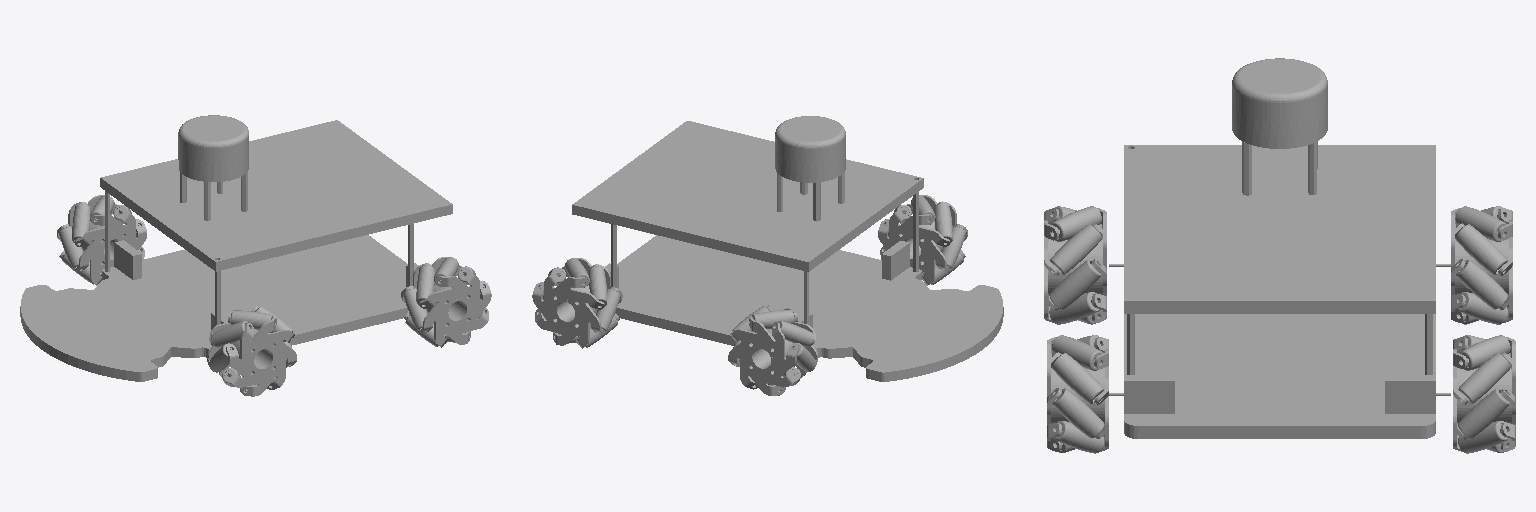
--- Render facts (derived) ---
Views: 3 orthographic renders of the robot side by side, from view 1: azimuth 30°, elevation 25°; view 2: azimuth 150°, elevation 25°; view 3: azimuth 270°, elevation 25°.
Model car_copy_2 with 38 links and 37 joints (36 continuous, 1 fixed), rooted at base_link, posed all joints at 0.
Links seen in each view (by area): view 1: base_link, macWheel_big_v2_Mirror__2, macWheel_big_v2_1, lidar_v1_1, macWheel_big_v2__1__1, wheel_small_com_big_v1__30__1, wheel_small_com_big_v1__2__1, wheel_small_com_big_v1__20__1; view 2: base_link, macWheel_big_v2__1__1, macWheel_big_v2_Mirror__1, lidar_v1_1, macWheel_big_v2_Mirror__2, wheel_small_com_big_v1__20__1, wheel_small_com_big_v1__30__1, wheel_small_com_big_v1__10__1; view 3: base_link, lidar_v1_1, macWheel_big_v2_Mirror__1, macWheel_big_v2_Mirror__2, macWheel_big_v2__1__1, macWheel_big_v2_1, wheel_small_com_big_v1_1, wheel_small_com_big_v1__16__1, wheel_small_com_big_v1__29__1, wheel_small_com_big_v1__8__1, wheel_small_com_big_v1__12__1, wheel_small_com_big_v1__18__1 (+10 smaller).
Boxes of the visible links, left/top/right/bottom form: base_link: left=20, top=120, right=452, bottom=381; macWheel_big_v2_Mirror__2: left=207, top=306, right=296, bottom=396; macWheel_big_v2_1: left=401, top=257, right=491, bottom=347; lidar_v1_1: left=178, top=115, right=248, bottom=162; macWheel_big_v2__1__1: left=57, top=195, right=146, bottom=285; wheel_small_com_big_v1__30__1: left=211, top=321, right=247, bottom=347; wheel_small_com_big_v1__2__1: left=416, top=265, right=434, bottom=304; wheel_small_com_big_v1__20__1: left=72, top=204, right=90, bottom=242; base_link: left=572, top=121, right=1003, bottom=381; macWheel_big_v2__1__1: left=728, top=305, right=817, bottom=395; macWheel_big_v2_Mirror__1: left=532, top=258, right=622, bottom=348; lidar_v1_1: left=775, top=116, right=845, bottom=162; macWheel_big_v2_Mirror__2: left=878, top=195, right=967, bottom=285; wheel_small_com_big_v1__20__1: left=778, top=321, right=813, bottom=346; wheel_small_com_big_v1__30__1: left=934, top=204, right=952, bottom=242; wheel_small_com_big_v1__10__1: left=589, top=266, right=606, bottom=305; base_link: left=1109, top=105, right=1450, bottom=438; lidar_v1_1: left=1232, top=58, right=1327, bottom=122; macWheel_big_v2_Mirror__1: left=1453, top=337, right=1515, bottom=451; macWheel_big_v2_Mirror__2: left=1044, top=208, right=1106, bottom=322; macWheel_big_v2__1__1: left=1451, top=208, right=1512, bottom=322; macWheel_big_v2_1: left=1047, top=337, right=1108, bottom=451; wheel_small_com_big_v1_1: left=1052, top=353, right=1103, bottom=403; wheel_small_com_big_v1__16__1: left=1455, top=224, right=1507, bottom=274; wheel_small_com_big_v1__29__1: left=1050, top=224, right=1101, bottom=274; wheel_small_com_big_v1__8__1: left=1458, top=353, right=1510, bottom=403; wheel_small_com_big_v1__12__1: left=1458, top=388, right=1509, bottom=438; wheel_small_com_big_v1__18__1: left=1456, top=260, right=1507, bottom=309.
Bounding box of the posed robot: 0.3941 × 0.3245 × 0.2021 m (x, y, z).
38 mesh visuals loaded from 38 distinct referenced files (38 binary STL).

The robot description file, URDF, robot "car_copy_2":
<?xml version="1.0" ?>
<!-- =================================================================================== -->
<!-- |    This document was autogenerated by xacro from urdf/car_copy_2.xacro          | -->
<!-- |    EDITING THIS FILE BY HAND IS NOT RECOMMENDED                                 | -->
<!-- =================================================================================== -->
<robot xmlns:xacro="http://www.ros.org/wiki/xacro" name="car_copy_2">
  <material name="silver">
    <color rgba="0.700 0.700 0.700 1.000"/>
  </material>
  <transmission name="Revolute 58_tran">
    <type>transmission_interface/SimpleTransmission</type>
    <joint name="Revolute 58">
      <hardwareInterface>hardware_interface/EffortJointInterface</hardwareInterface>
    </joint>
    <actuator name="Revolute 58_actr">
      <hardwareInterface>hardware_interface/EffortJointInterface</hardwareInterface>
      <mechanicalReduction>1</mechanicalReduction>
    </actuator>
  </transmission>
  <transmission name="Revolute 59_tran">
    <type>transmission_interface/SimpleTransmission</type>
    <joint name="Revolute 59">
      <hardwareInterface>hardware_interface/EffortJointInterface</hardwareInterface>
    </joint>
    <actuator name="Revolute 59_actr">
      <hardwareInterface>hardware_interface/EffortJointInterface</hardwareInterface>
      <mechanicalReduction>1</mechanicalReduction>
    </actuator>
  </transmission>
  <transmission name="Revolute 60_tran">
    <type>transmission_interface/SimpleTransmission</type>
    <joint name="Revolute 60">
      <hardwareInterface>hardware_interface/EffortJointInterface</hardwareInterface>
    </joint>
    <actuator name="Revolute 60_actr">
      <hardwareInterface>hardware_interface/EffortJointInterface</hardwareInterface>
      <mechanicalReduction>1</mechanicalReduction>
    </actuator>
  </transmission>
  <transmission name="Revolute 61_tran">
    <type>transmission_interface/SimpleTransmission</type>
    <joint name="Revolute 61">
      <hardwareInterface>hardware_interface/EffortJointInterface</hardwareInterface>
    </joint>
    <actuator name="Revolute 61_actr">
      <hardwareInterface>hardware_interface/EffortJointInterface</hardwareInterface>
      <mechanicalReduction>1</mechanicalReduction>
    </actuator>
  </transmission>
  <transmission name="Revolute 62_tran">
    <type>transmission_interface/SimpleTransmission</type>
    <joint name="Revolute 62">
      <hardwareInterface>hardware_interface/EffortJointInterface</hardwareInterface>
    </joint>
    <actuator name="Revolute 62_actr">
      <hardwareInterface>hardware_interface/EffortJointInterface</hardwareInterface>
      <mechanicalReduction>1</mechanicalReduction>
    </actuator>
  </transmission>
  <transmission name="Revolute 63_tran">
    <type>transmission_interface/SimpleTransmission</type>
    <joint name="Revolute 63">
      <hardwareInterface>hardware_interface/EffortJointInterface</hardwareInterface>
    </joint>
    <actuator name="Revolute 63_actr">
      <hardwareInterface>hardware_interface/EffortJointInterface</hardwareInterface>
      <mechanicalReduction>1</mechanicalReduction>
    </actuator>
  </transmission>
  <transmission name="Revolute 64_tran">
    <type>transmission_interface/SimpleTransmission</type>
    <joint name="Revolute 64">
      <hardwareInterface>hardware_interface/EffortJointInterface</hardwareInterface>
    </joint>
    <actuator name="Revolute 64_actr">
      <hardwareInterface>hardware_interface/EffortJointInterface</hardwareInterface>
      <mechanicalReduction>1</mechanicalReduction>
    </actuator>
  </transmission>
  <transmission name="Revolute 65_tran">
    <type>transmission_interface/SimpleTransmission</type>
    <joint name="Revolute 65">
      <hardwareInterface>hardware_interface/EffortJointInterface</hardwareInterface>
    </joint>
    <actuator name="Revolute 65_actr">
      <hardwareInterface>hardware_interface/EffortJointInterface</hardwareInterface>
      <mechanicalReduction>1</mechanicalReduction>
    </actuator>
  </transmission>
  <transmission name="Revolute 66_tran">
    <type>transmission_interface/SimpleTransmission</type>
    <joint name="Revolute 66">
      <hardwareInterface>hardware_interface/EffortJointInterface</hardwareInterface>
    </joint>
    <actuator name="Revolute 66_actr">
      <hardwareInterface>hardware_interface/EffortJointInterface</hardwareInterface>
      <mechanicalReduction>1</mechanicalReduction>
    </actuator>
  </transmission>
  <transmission name="Revolute 67_tran">
    <type>transmission_interface/SimpleTransmission</type>
    <joint name="Revolute 67">
      <hardwareInterface>hardware_interface/EffortJointInterface</hardwareInterface>
    </joint>
    <actuator name="Revolute 67_actr">
      <hardwareInterface>hardware_interface/EffortJointInterface</hardwareInterface>
      <mechanicalReduction>1</mechanicalReduction>
    </actuator>
  </transmission>
  <transmission name="Revolute 68_tran">
    <type>transmission_interface/SimpleTransmission</type>
    <joint name="Revolute 68">
      <hardwareInterface>hardware_interface/EffortJointInterface</hardwareInterface>
    </joint>
    <actuator name="Revolute 68_actr">
      <hardwareInterface>hardware_interface/EffortJointInterface</hardwareInterface>
      <mechanicalReduction>1</mechanicalReduction>
    </actuator>
  </transmission>
  <transmission name="Revolute 69_tran">
    <type>transmission_interface/SimpleTransmission</type>
    <joint name="Revolute 69">
      <hardwareInterface>hardware_interface/EffortJointInterface</hardwareInterface>
    </joint>
    <actuator name="Revolute 69_actr">
      <hardwareInterface>hardware_interface/EffortJointInterface</hardwareInterface>
      <mechanicalReduction>1</mechanicalReduction>
    </actuator>
  </transmission>
  <transmission name="Revolute 70_tran">
    <type>transmission_interface/SimpleTransmission</type>
    <joint name="Revolute 70">
      <hardwareInterface>hardware_interface/EffortJointInterface</hardwareInterface>
    </joint>
    <actuator name="Revolute 70_actr">
      <hardwareInterface>hardware_interface/EffortJointInterface</hardwareInterface>
      <mechanicalReduction>1</mechanicalReduction>
    </actuator>
  </transmission>
  <transmission name="Revolute 71_tran">
    <type>transmission_interface/SimpleTransmission</type>
    <joint name="Revolute 71">
      <hardwareInterface>hardware_interface/EffortJointInterface</hardwareInterface>
    </joint>
    <actuator name="Revolute 71_actr">
      <hardwareInterface>hardware_interface/EffortJointInterface</hardwareInterface>
      <mechanicalReduction>1</mechanicalReduction>
    </actuator>
  </transmission>
  <transmission name="Revolute 72_tran">
    <type>transmission_interface/SimpleTransmission</type>
    <joint name="Revolute 72">
      <hardwareInterface>hardware_interface/EffortJointInterface</hardwareInterface>
    </joint>
    <actuator name="Revolute 72_actr">
      <hardwareInterface>hardware_interface/EffortJointInterface</hardwareInterface>
      <mechanicalReduction>1</mechanicalReduction>
    </actuator>
  </transmission>
  <transmission name="Revolute 73_tran">
    <type>transmission_interface/SimpleTransmission</type>
    <joint name="Revolute 73">
      <hardwareInterface>hardware_interface/EffortJointInterface</hardwareInterface>
    </joint>
    <actuator name="Revolute 73_actr">
      <hardwareInterface>hardware_interface/EffortJointInterface</hardwareInterface>
      <mechanicalReduction>1</mechanicalReduction>
    </actuator>
  </transmission>
  <transmission name="Revolute 74_tran">
    <type>transmission_interface/SimpleTransmission</type>
    <joint name="Revolute 74">
      <hardwareInterface>hardware_interface/EffortJointInterface</hardwareInterface>
    </joint>
    <actuator name="Revolute 74_actr">
      <hardwareInterface>hardware_interface/EffortJointInterface</hardwareInterface>
      <mechanicalReduction>1</mechanicalReduction>
    </actuator>
  </transmission>
  <transmission name="Revolute 75_tran">
    <type>transmission_interface/SimpleTransmission</type>
    <joint name="Revolute 75">
      <hardwareInterface>hardware_interface/EffortJointInterface</hardwareInterface>
    </joint>
    <actuator name="Revolute 75_actr">
      <hardwareInterface>hardware_interface/EffortJointInterface</hardwareInterface>
      <mechanicalReduction>1</mechanicalReduction>
    </actuator>
  </transmission>
  <transmission name="Revolute 76_tran">
    <type>transmission_interface/SimpleTransmission</type>
    <joint name="Revolute 76">
      <hardwareInterface>hardware_interface/EffortJointInterface</hardwareInterface>
    </joint>
    <actuator name="Revolute 76_actr">
      <hardwareInterface>hardware_interface/EffortJointInterface</hardwareInterface>
      <mechanicalReduction>1</mechanicalReduction>
    </actuator>
  </transmission>
  <transmission name="Revolute 77_tran">
    <type>transmission_interface/SimpleTransmission</type>
    <joint name="Revolute 77">
      <hardwareInterface>hardware_interface/EffortJointInterface</hardwareInterface>
    </joint>
    <actuator name="Revolute 77_actr">
      <hardwareInterface>hardware_interface/EffortJointInterface</hardwareInterface>
      <mechanicalReduction>1</mechanicalReduction>
    </actuator>
  </transmission>
  <transmission name="Revolute 78_tran">
    <type>transmission_interface/SimpleTransmission</type>
    <joint name="Revolute 78">
      <hardwareInterface>hardware_interface/EffortJointInterface</hardwareInterface>
    </joint>
    <actuator name="Revolute 78_actr">
      <hardwareInterface>hardware_interface/EffortJointInterface</hardwareInterface>
      <mechanicalReduction>1</mechanicalReduction>
    </actuator>
  </transmission>
  <transmission name="Revolute 79_tran">
    <type>transmission_interface/SimpleTransmission</type>
    <joint name="Revolute 79">
      <hardwareInterface>hardware_interface/EffortJointInterface</hardwareInterface>
    </joint>
    <actuator name="Revolute 79_actr">
      <hardwareInterface>hardware_interface/EffortJointInterface</hardwareInterface>
      <mechanicalReduction>1</mechanicalReduction>
    </actuator>
  </transmission>
  <transmission name="Revolute 80_tran">
    <type>transmission_interface/SimpleTransmission</type>
    <joint name="Revolute 80">
      <hardwareInterface>hardware_interface/EffortJointInterface</hardwareInterface>
    </joint>
    <actuator name="Revolute 80_actr">
      <hardwareInterface>hardware_interface/EffortJointInterface</hardwareInterface>
      <mechanicalReduction>1</mechanicalReduction>
    </actuator>
  </transmission>
  <transmission name="Revolute 81_tran">
    <type>transmission_interface/SimpleTransmission</type>
    <joint name="Revolute 81">
      <hardwareInterface>hardware_interface/EffortJointInterface</hardwareInterface>
    </joint>
    <actuator name="Revolute 81_actr">
      <hardwareInterface>hardware_interface/EffortJointInterface</hardwareInterface>
      <mechanicalReduction>1</mechanicalReduction>
    </actuator>
  </transmission>
  <transmission name="Revolute 82_tran">
    <type>transmission_interface/SimpleTransmission</type>
    <joint name="Revolute 82">
      <hardwareInterface>hardware_interface/EffortJointInterface</hardwareInterface>
    </joint>
    <actuator name="Revolute 82_actr">
      <hardwareInterface>hardware_interface/EffortJointInterface</hardwareInterface>
      <mechanicalReduction>1</mechanicalReduction>
    </actuator>
  </transmission>
  <transmission name="Revolute 83_tran">
    <type>transmission_interface/SimpleTransmission</type>
    <joint name="Revolute 83">
      <hardwareInterface>hardware_interface/EffortJointInterface</hardwareInterface>
    </joint>
    <actuator name="Revolute 83_actr">
      <hardwareInterface>hardware_interface/EffortJointInterface</hardwareInterface>
      <mechanicalReduction>1</mechanicalReduction>
    </actuator>
  </transmission>
  <transmission name="Revolute 84_tran">
    <type>transmission_interface/SimpleTransmission</type>
    <joint name="Revolute 84">
      <hardwareInterface>hardware_interface/EffortJointInterface</hardwareInterface>
    </joint>
    <actuator name="Revolute 84_actr">
      <hardwareInterface>hardware_interface/EffortJointInterface</hardwareInterface>
      <mechanicalReduction>1</mechanicalReduction>
    </actuator>
  </transmission>
  <transmission name="Revolute 85_tran">
    <type>transmission_interface/SimpleTransmission</type>
    <joint name="Revolute 85">
      <hardwareInterface>hardware_interface/EffortJointInterface</hardwareInterface>
    </joint>
    <actuator name="Revolute 85_actr">
      <hardwareInterface>hardware_interface/EffortJointInterface</hardwareInterface>
      <mechanicalReduction>1</mechanicalReduction>
    </actuator>
  </transmission>
  <transmission name="Revolute 86_tran">
    <type>transmission_interface/SimpleTransmission</type>
    <joint name="Revolute 86">
      <hardwareInterface>hardware_interface/EffortJointInterface</hardwareInterface>
    </joint>
    <actuator name="Revolute 86_actr">
      <hardwareInterface>hardware_interface/EffortJointInterface</hardwareInterface>
      <mechanicalReduction>1</mechanicalReduction>
    </actuator>
  </transmission>
  <transmission name="Revolute 87_tran">
    <type>transmission_interface/SimpleTransmission</type>
    <joint name="Revolute 87">
      <hardwareInterface>hardware_interface/EffortJointInterface</hardwareInterface>
    </joint>
    <actuator name="Revolute 87_actr">
      <hardwareInterface>hardware_interface/EffortJointInterface</hardwareInterface>
      <mechanicalReduction>1</mechanicalReduction>
    </actuator>
  </transmission>
  <transmission name="Revolute 88_tran">
    <type>transmission_interface/SimpleTransmission</type>
    <joint name="Revolute 88">
      <hardwareInterface>hardware_interface/EffortJointInterface</hardwareInterface>
    </joint>
    <actuator name="Revolute 88_actr">
      <hardwareInterface>hardware_interface/EffortJointInterface</hardwareInterface>
      <mechanicalReduction>1</mechanicalReduction>
    </actuator>
  </transmission>
  <transmission name="Revolute 89_tran">
    <type>transmission_interface/SimpleTransmission</type>
    <joint name="Revolute 89">
      <hardwareInterface>hardware_interface/EffortJointInterface</hardwareInterface>
    </joint>
    <actuator name="Revolute 89_actr">
      <hardwareInterface>hardware_interface/EffortJointInterface</hardwareInterface>
      <mechanicalReduction>1</mechanicalReduction>
    </actuator>
  </transmission>
  <transmission name="Revolute 90_tran">
    <type>transmission_interface/SimpleTransmission</type>
    <joint name="Revolute 90">
      <hardwareInterface>hardware_interface/EffortJointInterface</hardwareInterface>
    </joint>
    <actuator name="Revolute 90_actr">
      <hardwareInterface>hardware_interface/EffortJointInterface</hardwareInterface>
      <mechanicalReduction>1</mechanicalReduction>
    </actuator>
  </transmission>
  <transmission name="Revolute 91_tran">
    <type>transmission_interface/SimpleTransmission</type>
    <joint name="Revolute 91">
      <hardwareInterface>hardware_interface/EffortJointInterface</hardwareInterface>
    </joint>
    <actuator name="Revolute 91_actr">
      <hardwareInterface>hardware_interface/EffortJointInterface</hardwareInterface>
      <mechanicalReduction>1</mechanicalReduction>
    </actuator>
  </transmission>
  <transmission name="Revolute 92_tran">
    <type>transmission_interface/SimpleTransmission</type>
    <joint name="Revolute 92">
      <hardwareInterface>hardware_interface/EffortJointInterface</hardwareInterface>
    </joint>
    <actuator name="Revolute 92_actr">
      <hardwareInterface>hardware_interface/EffortJointInterface</hardwareInterface>
      <mechanicalReduction>1</mechanicalReduction>
    </actuator>
  </transmission>
  <transmission name="Revolute 93_tran">
    <type>transmission_interface/SimpleTransmission</type>
    <joint name="Revolute 93">
      <hardwareInterface>hardware_interface/EffortJointInterface</hardwareInterface>
    </joint>
    <actuator name="Revolute 93_actr">
      <hardwareInterface>hardware_interface/EffortJointInterface</hardwareInterface>
      <mechanicalReduction>1</mechanicalReduction>
    </actuator>
  </transmission>
  <gazebo>
    <plugin name="control" filename="libgazebo_ros_control.so"/>
  </gazebo>
  <gazebo reference="base_link">
    <material>Gazebo/Silver</material>
    <mu1>0.2</mu1>
    <mu2>0.2</mu2>
    <selfCollide>true</selfCollide>
    <gravity>true</gravity>
  </gazebo>
  <gazebo reference="lidar_v1_1">
    <material>Gazebo/Silver</material>
    <mu1>0.2</mu1>
    <mu2>0.2</mu2>
    <selfCollide>true</selfCollide>
  </gazebo>
  <gazebo reference="macWheel_big_v2_1">
    <material>Gazebo/Silver</material>
    <mu1>0.2</mu1>
    <mu2>0.2</mu2>
    <selfCollide>true</selfCollide>
  </gazebo>
  <gazebo reference="wheel_small_com_big_v1_1">
    <material>Gazebo/Silver</material>
    <mu1>0.2</mu1>
    <mu2>0.2</mu2>
    <selfCollide>true</selfCollide>
  </gazebo>
  <gazebo reference="wheel_small_com_big_v1__1__1">
    <material>Gazebo/Silver</material>
    <mu1>0.2</mu1>
    <mu2>0.2</mu2>
    <selfCollide>true</selfCollide>
  </gazebo>
  <gazebo reference="wheel_small_com_big_v1__2__1">
    <material>Gazebo/Silver</material>
    <mu1>0.2</mu1>
    <mu2>0.2</mu2>
    <selfCollide>true</selfCollide>
  </gazebo>
  <gazebo reference="wheel_small_com_big_v1__3__1">
    <material>Gazebo/Silver</material>
    <mu1>0.2</mu1>
    <mu2>0.2</mu2>
    <selfCollide>true</selfCollide>
  </gazebo>
  <gazebo reference="wheel_small_com_big_v1__4__1">
    <material>Gazebo/Silver</material>
    <mu1>0.2</mu1>
    <mu2>0.2</mu2>
    <selfCollide>true</selfCollide>
  </gazebo>
  <gazebo reference="wheel_small_com_big_v1__5__1">
    <material>Gazebo/Silver</material>
    <mu1>0.2</mu1>
    <mu2>0.2</mu2>
    <selfCollide>true</selfCollide>
  </gazebo>
  <gazebo reference="wheel_small_com_big_v1__7__1">
    <material>Gazebo/Silver</material>
    <mu1>0.2</mu1>
    <mu2>0.2</mu2>
    <selfCollide>true</selfCollide>
  </gazebo>
  <gazebo reference="wheel_small_com_big_v1__6__1">
    <material>Gazebo/Silver</material>
    <mu1>0.2</mu1>
    <mu2>0.2</mu2>
    <selfCollide>true</selfCollide>
  </gazebo>
  <gazebo reference="macWheel_big_v2_Mirror__1">
    <material>Gazebo/Silver</material>
    <mu1>0.2</mu1>
    <mu2>0.2</mu2>
    <selfCollide>true</selfCollide>
  </gazebo>
  <gazebo reference="wheel_small_com_big_v1__8__1">
    <material>Gazebo/Silver</material>
    <mu1>0.2</mu1>
    <mu2>0.2</mu2>
    <selfCollide>true</selfCollide>
  </gazebo>
  <gazebo reference="wheel_small_com_big_v1__9__1">
    <material>Gazebo/Silver</material>
    <mu1>0.2</mu1>
    <mu2>0.2</mu2>
    <selfCollide>true</selfCollide>
  </gazebo>
  <gazebo reference="wheel_small_com_big_v1__10__1">
    <material>Gazebo/Silver</material>
    <mu1>0.2</mu1>
    <mu2>0.2</mu2>
    <selfCollide>true</selfCollide>
  </gazebo>
  <gazebo reference="wheel_small_com_big_v1__11__1">
    <material>Gazebo/Silver</material>
    <mu1>0.2</mu1>
    <mu2>0.2</mu2>
    <selfCollide>true</selfCollide>
  </gazebo>
  <gazebo reference="wheel_small_com_big_v1__12__1">
    <material>Gazebo/Silver</material>
    <mu1>0.2</mu1>
    <mu2>0.2</mu2>
    <selfCollide>true</selfCollide>
  </gazebo>
  <gazebo reference="wheel_small_com_big_v1__13__1">
    <material>Gazebo/Silver</material>
    <mu1>0.2</mu1>
    <mu2>0.2</mu2>
    <selfCollide>true</selfCollide>
  </gazebo>
  <gazebo reference="wheel_small_com_big_v1__14__1">
    <material>Gazebo/Silver</material>
    <mu1>0.2</mu1>
    <mu2>0.2</mu2>
    <selfCollide>true</selfCollide>
  </gazebo>
  <gazebo reference="wheel_small_com_big_v1__15__1">
    <material>Gazebo/Silver</material>
    <mu1>0.2</mu1>
    <mu2>0.2</mu2>
    <selfCollide>true</selfCollide>
  </gazebo>
  <gazebo reference="macWheel_big_v2__1__1">
    <material>Gazebo/Silver</material>
    <mu1>0.2</mu1>
    <mu2>0.2</mu2>
    <selfCollide>true</selfCollide>
  </gazebo>
  <gazebo reference="wheel_small_com_big_v1__16__1">
    <material>Gazebo/Silver</material>
    <mu1>0.2</mu1>
    <mu2>0.2</mu2>
    <selfCollide>true</selfCollide>
  </gazebo>
  <gazebo reference="wheel_small_com_big_v1__17__1">
    <material>Gazebo/Silver</material>
    <mu1>0.2</mu1>
    <mu2>0.2</mu2>
    <selfCollide>true</selfCollide>
  </gazebo>
  <gazebo reference="wheel_small_com_big_v1__18__1">
    <material>Gazebo/Silver</material>
    <mu1>0.2</mu1>
    <mu2>0.2</mu2>
    <selfCollide>true</selfCollide>
  </gazebo>
  <gazebo reference="wheel_small_com_big_v1__19__1">
    <material>Gazebo/Silver</material>
    <mu1>0.2</mu1>
    <mu2>0.2</mu2>
    <selfCollide>true</selfCollide>
  </gazebo>
  <gazebo reference="wheel_small_com_big_v1__20__1">
    <material>Gazebo/Silver</material>
    <mu1>0.2</mu1>
    <mu2>0.2</mu2>
    <selfCollide>true</selfCollide>
  </gazebo>
  <gazebo reference="wheel_small_com_big_v1__21__1">
    <material>Gazebo/Silver</material>
    <mu1>0.2</mu1>
    <mu2>0.2</mu2>
    <selfCollide>true</selfCollide>
  </gazebo>
  <gazebo reference="wheel_small_com_big_v1__22__1">
    <material>Gazebo/Silver</material>
    <mu1>0.2</mu1>
    <mu2>0.2</mu2>
    <selfCollide>true</selfCollide>
  </gazebo>
  <gazebo reference="wheel_small_com_big_v1__23__1">
    <material>Gazebo/Silver</material>
    <mu1>0.2</mu1>
    <mu2>0.2</mu2>
    <selfCollide>true</selfCollide>
  </gazebo>
  <gazebo reference="macWheel_big_v2_Mirror__2">
    <material>Gazebo/Silver</material>
    <mu1>0.2</mu1>
    <mu2>0.2</mu2>
    <selfCollide>true</selfCollide>
  </gazebo>
  <gazebo reference="wheel_small_com_big_v1__31__1">
    <material>Gazebo/Silver</material>
    <mu1>0.2</mu1>
    <mu2>0.2</mu2>
    <selfCollide>true</selfCollide>
  </gazebo>
  <gazebo reference="wheel_small_com_big_v1__30__1">
    <material>Gazebo/Silver</material>
    <mu1>0.2</mu1>
    <mu2>0.2</mu2>
    <selfCollide>true</selfCollide>
  </gazebo>
  <gazebo reference="wheel_small_com_big_v1__29__1">
    <material>Gazebo/Silver</material>
    <mu1>0.2</mu1>
    <mu2>0.2</mu2>
    <selfCollide>true</selfCollide>
  </gazebo>
  <gazebo reference="wheel_small_com_big_v1__28__1">
    <material>Gazebo/Silver</material>
    <mu1>0.2</mu1>
    <mu2>0.2</mu2>
    <selfCollide>true</selfCollide>
  </gazebo>
  <gazebo reference="wheel_small_com_big_v1__27__1">
    <material>Gazebo/Silver</material>
    <mu1>0.2</mu1>
    <mu2>0.2</mu2>
    <selfCollide>true</selfCollide>
  </gazebo>
  <gazebo reference="wheel_small_com_big_v1__26__1">
    <material>Gazebo/Silver</material>
    <mu1>0.2</mu1>
    <mu2>0.2</mu2>
    <selfCollide>true</selfCollide>
  </gazebo>
  <gazebo reference="wheel_small_com_big_v1__25__1">
    <material>Gazebo/Silver</material>
    <mu1>0.2</mu1>
    <mu2>0.2</mu2>
    <selfCollide>true</selfCollide>
  </gazebo>
  <gazebo reference="wheel_small_com_big_v1__24__1">
    <material>Gazebo/Silver</material>
    <mu1>0.2</mu1>
    <mu2>0.2</mu2>
    <selfCollide>true</selfCollide>
  </gazebo>
  <link name="base_link">
    <inertial>
      <origin xyz="-0.05744576591784277 0.026263063131666993 0.03490782751752176" rpy="0 0 0"/>
      <mass value="11.13582814957309"/>
      <inertia ixx="0.069638" iyy="0.130555" izz="0.141689" ixy="1.4e-05" iyz="-4e-06" ixz="-0.009882"/>
    </inertial>
    <visual>
      <origin xyz="0 0 0" rpy="0 0 0"/>
      <geometry>
        <mesh filename="package://car_copy_2_description/meshes/base_link.stl" scale="0.001 0.001 0.001"/>
      </geometry>
      <material name="silver"/>
    </visual>
    <collision>
      <origin xyz="0 0 0" rpy="0 0 0"/>
      <geometry>
        <mesh filename="package://car_copy_2_description/meshes/base_link.stl" scale="0.001 0.001 0.001"/>
      </geometry>
    </collision>
  </link>
  <link name="lidar_v1_1">
    <inertial>
      <origin xyz="8.890515529325071e-08 -1.7924551614853512e-07 0.009858836865787673" rpy="0 0 0"/>
      <mass value="0.5286905929941373"/>
      <inertia ixx="0.000159" iyy="0.000159" izz="0.000284" ixy="-0.0" iyz="0.0" ixz="0.0"/>
    </inertial>
    <visual>
      <origin xyz="0.093681 -0.026254 -0.149896" rpy="0 0 0"/>
      <geometry>
        <mesh filename="package://car_copy_2_description/meshes/lidar_v1_1.stl" scale="0.001 0.001 0.001"/>
      </geometry>
      <material name="silver"/>
    </visual>
    <collision>
      <origin xyz="0.093681 -0.026254 -0.149896" rpy="0 0 0"/>
      <geometry>
        <mesh filename="package://car_copy_2_description/meshes/lidar_v1_1.stl" scale="0.001 0.001 0.001"/>
      </geometry>
    </collision>
  </link>
  <link name="macWheel_big_v2_1">
    <inertial>
      <origin xyz="8.991099481603371e-08 -0.021494204245300533 3.369220982320578e-07" rpy="0 0 0"/>
      <mass value="0.4755858352821359"/>
      <inertia ixx="0.000195" iyy="0.000201" izz="0.000195" ixy="-0.0" iyz="-0.0" ixz="0.0"/>
    </inertial>
    <visual>
      <origin xyz="-0.076319 0.091246 -0.007396" rpy="0 0 0"/>
      <geometry>
        <mesh filename="package://car_copy_2_description/meshes/macWheel_big_v2_1.stl" scale="0.001 0.001 0.001"/>
      </geometry>
      <material name="silver"/>
    </visual>
    <collision>
      <origin xyz="-0.076319 0.091246 -0.007396" rpy="0 0 0"/>
      <geometry>
        <mesh filename="package://car_copy_2_description/meshes/macWheel_big_v2_1.stl" scale="0.001 0.001 0.001"/>
      </geometry>
    </collision>
  </link>
  <link name="wheel_small_com_big_v1_1">
    <inertial>
      <origin xyz="-4.1545169586487685e-07 -4.159208721876695e-07 3.1900678559501627e-07" rpy="0 0 0"/>
      <mass value="0.05173563165158379"/>
      <inertia ixx="5e-06" iyy="4e-06" izz="5e-06" ixy="-2e-06" iyz="2e-06" ixz="1e-06"/>
    </inertial>
    <visual>
      <origin xyz="-0.098525 0.112755 -0.02958" rpy="0 0 0"/>
      <geometry>
        <mesh filename="package://car_copy_2_description/meshes/wheel_small_com_big_v1_1.stl" scale="0.001 0.001 0.001"/>
      </geometry>
      <material name="silver"/>
    </visual>
    <collision>
      <origin xyz="-0.098525 0.112755 -0.02958" rpy="0 0 0"/>
      <geometry>
        <mesh filename="package://car_copy_2_description/meshes/wheel_small_com_big_v1_1.stl" scale="0.001 0.001 0.001"/>
      </geometry>
    </collision>
  </link>
  <link name="wheel_small_com_big_v1__1__1">
    <inertial>
      <origin xyz="3.015862848620987e-07 -4.159208233378564e-07 4.3692696691244315e-07" rpy="0 0 0"/>
      <mass value="0.05173563165158379"/>
      <inertia ixx="4e-06" iyy="4e-06" izz="6e-06" ixy="-2e-06" iyz="-0.0" ixz="-0.0"/>
    </inertial>
    <visual>
      <origin xyz="-0.076334 0.112755 -0.038784" rpy="0 0 0"/>
      <geometry>
        <mesh filename="package://car_copy_2_description/meshes/wheel_small_com_big_v1__1__1.stl" scale="0.001 0.001 0.001"/>
      </geometry>
      <material name="silver"/>
    </visual>
    <collision>
      <origin xyz="-0.076334 0.112755 -0.038784" rpy="0 0 0"/>
      <geometry>
        <mesh filename="package://car_copy_2_description/meshes/wheel_small_com_big_v1__1__1.stl" scale="0.001 0.001 0.001"/>
      </geometry>
    </collision>
  </link>
  <link name="wheel_small_com_big_v1__2__1">
    <inertial>
      <origin xyz="-4.0472634010857433e-07 7.429832887817511e-09 3.190067821672027e-07" rpy="0 0 0"/>
      <mass value="0.05173563165158379"/>
      <inertia ixx="5e-06" iyy="4e-06" izz="5e-06" ixy="-2e-06" iyz="-2e-06" ixz="-1e-06"/>
    </inertial>
    <visual>
      <origin xyz="-0.054114 0.112725 -0.02958" rpy="0 0 0"/>
      <geometry>
        <mesh filename="package://car_copy_2_description/meshes/wheel_small_com_big_v1__2__1.stl" scale="0.001 0.001 0.001"/>
      </geometry>
      <material name="silver"/>
    </visual>
    <collision>
      <origin xyz="-0.054114 0.112725 -0.02958" rpy="0 0 0"/>
      <geometry>
        <mesh filename="package://car_copy_2_description/meshes/wheel_small_com_big_v1__2__1.stl" scale="0.001 0.001 0.001"/>
      </geometry>
    </collision>
  </link>
  <link name="wheel_small_com_big_v1__3__1">
    <inertial>
      <origin xyz="-1.0088931273743995e-08 7.429783607793006e-09 1.252517464137709e-07" rpy="0 0 0"/>
      <mass value="0.05173563165158379"/>
      <inertia ixx="6e-06" iyy="4e-06" izz="4e-06" ixy="0.0" iyz="-2e-06" ixz="0.0"/>
    </inertial>
    <visual>
      <origin xyz="-0.044931 0.112725 -0.007381" rpy="0 0 0"/>
      <geometry>
        <mesh filename="package://car_copy_2_description/meshes/wheel_small_com_big_v1__3__1.stl" scale="0.001 0.001 0.001"/>
      </geometry>
      <material name="silver"/>
    </visual>
    <collision>
      <origin xyz="-0.044931 0.112725 -0.007381" rpy="0 0 0"/>
      <geometry>
        <mesh filename="package://car_copy_2_description/meshes/wheel_small_com_big_v1__3__1.stl" scale="0.001 0.001 0.001"/>
      </geometry>
    </collision>
  </link>
  <link name="wheel_small_com_big_v1__4__1">
    <inertial>
      <origin xyz="1.8991089797970595e-07 7.429785620072238e-09 -4.5139764098638124e-07" rpy="0 0 0"/>
      <mass value="0.05173563165158379"/>
      <inertia ixx="6e-06" iyy="4e-06" izz="4e-06" ixy="-0.0" iyz="2e-06" ixz="0.0"/>
    </inertial>
    <visual>
      <origin xyz="-0.107707 0.112725 -0.007412" rpy="0 0 0"/>
      <geometry>
        <mesh filename="package://car_copy_2_description/meshes/wheel_small_com_big_v1__4__1.stl" scale="0.001 0.001 0.001"/>
      </geometry>
      <material name="silver"/>
    </visual>
    <collision>
      <origin xyz="-0.107707 0.112725 -0.007412" rpy="0 0 0"/>
      <geometry>
        <mesh filename="package://car_copy_2_description/meshes/wheel_small_com_big_v1__4__1.stl" scale="0.001 0.001 0.001"/>
      </geometry>
    </collision>
  </link>
  <link name="wheel_small_com_big_v1__5__1">
    <inertial>
      <origin xyz="-4.154516963644772e-07 7.429741641362675e-09 3.548471798949654e-07" rpy="0 0 0"/>
      <mass value="0.05173563165158379"/>
      <inertia ixx="5e-06" iyy="4e-06" izz="5e-06" ixy="2e-06" iyz="2e-06" ixz="-1e-06"/>
    </inertial>
    <visual>
      <origin xyz="-0.098525 0.112725 0.014788" rpy="0 0 0"/>
      <geometry>
        <mesh filename="package://car_copy_2_description/meshes/wheel_small_com_big_v1__5__1.stl" scale="0.001 0.001 0.001"/>
      </geometry>
      <material name="silver"/>
    </visual>
    <collision>
      <origin xyz="-0.098525 0.112725 0.014788" rpy="0 0 0"/>
      <geometry>
        <mesh filename="package://car_copy_2_description/meshes/wheel_small_com_big_v1__5__1.stl" scale="0.001 0.001 0.001"/>
      </geometry>
    </collision>
  </link>
  <link name="wheel_small_com_big_v1__7__1">
    <inertial>
      <origin xyz="3.0158628457066516e-07 7.429790366275668e-09 2.3692696700036708e-07" rpy="0 0 0"/>
      <mass value="0.05173563165158379"/>
      <inertia ixx="4e-06" iyy="4e-06" izz="6e-06" ixy="2e-06" iyz="0.0" ixz="-0.0"/>
    </inertial>
    <visual>
      <origin xyz="-0.076334 0.112725 0.023992" rpy="0 0 0"/>
      <geometry>
        <mesh filename="package://car_copy_2_description/meshes/wheel_small_com_big_v1__7__1.stl" scale="0.001 0.001 0.001"/>
      </geometry>
      <material name="silver"/>
    </visual>
    <collision>
      <origin xyz="-0.076334 0.112725 0.023992" rpy="0 0 0"/>
      <geometry>
        <mesh filename="package://car_copy_2_description/meshes/wheel_small_com_big_v1__7__1.stl" scale="0.001 0.001 0.001"/>
      </geometry>
    </collision>
  </link>
  <link name="wheel_small_com_big_v1__6__1">
    <inertial>
      <origin xyz="1.0783118038065753e-07 7.429838771999542e-09 -1.5771033719594318e-07" rpy="0 0 0"/>
      <mass value="0.05173563165158379"/>
      <inertia ixx="5e-06" iyy="4e-06" izz="5e-06" ixy="2e-06" iyz="-2e-06" ixz="1e-06"/>
    </inertial>
    <visual>
      <origin xyz="-0.054135 0.112725 0.014809" rpy="0 0 0"/>
      <geometry>
        <mesh filename="package://car_copy_2_description/meshes/wheel_small_com_big_v1__6__1.stl" scale="0.001 0.001 0.001"/>
      </geometry>
      <material name="silver"/>
    </visual>
    <collision>
      <origin xyz="-0.054135 0.112725 0.014809" rpy="0 0 0"/>
      <geometry>
        <mesh filename="package://car_copy_2_description/meshes/wheel_small_com_big_v1__6__1.stl" scale="0.001 0.001 0.001"/>
      </geometry>
    </collision>
  </link>
  <link name="macWheel_big_v2_Mirror__1">
    <inertial>
      <origin xyz="8.991099474664477e-08 0.02327117826473324 3.369220980290952e-07" rpy="0 0 0"/>
      <mass value="0.4755858352821358"/>
      <inertia ixx="0.000195" iyy="0.000201" izz="0.000195" ixy="0.0" iyz="0.0" ixz="0.0"/>
    </inertial>
    <visual>
      <origin xyz="-0.076319 -0.143754 -0.007396" rpy="0 0 0"/>
      <geometry>
        <mesh filename="package://car_copy_2_description/meshes/macWheel_big_v2_Mirror__1.stl" scale="0.001 0.001 0.001"/>
      </geometry>
      <material name="silver"/>
    </visual>
    <collision>
      <origin xyz="-0.076319 -0.143754 -0.007396" rpy="0 0 0"/>
      <geometry>
        <mesh filename="package://car_copy_2_description/meshes/macWheel_big_v2_Mirror__1.stl" scale="0.001 0.001 0.001"/>
      </geometry>
    </collision>
  </link>
  <link name="wheel_small_com_big_v1__8__1">
    <inertial>
      <origin xyz="7.199078254360725e-08 -3.34103028021282e-08 -1.6843569376756573e-07" rpy="0 0 0"/>
      <mass value="0.05173563165158379"/>
      <inertia ixx="5e-06" iyy="4e-06" izz="5e-06" ixy="2e-06" iyz="-2e-06" ixz="1e-06"/>
    </inertial>
    <visual>
      <origin xyz="-0.098503 -0.16701 -0.029602" rpy="0 0 0"/>
      <geometry>
        <mesh filename="package://car_copy_2_description/meshes/wheel_small_com_big_v1__8__1.stl" scale="0.001 0.001 0.001"/>
      </geometry>
      <material name="silver"/>
    </visual>
    <collision>
      <origin xyz="-0.098503 -0.16701 -0.029602" rpy="0 0 0"/>
      <geometry>
        <mesh filename="package://car_copy_2_description/meshes/wheel_small_com_big_v1__8__1.stl" scale="0.001 0.001 0.001"/>
      </geometry>
    </collision>
  </link>
  <link name="wheel_small_com_big_v1__9__1">
    <inertial>
      <origin xyz="3.015862843069872e-07 3.899402557516751e-07 4.3692696678754306e-07" rpy="0 0 0"/>
      <mass value="0.05173563165158379"/>
      <inertia ixx="4e-06" iyy="4e-06" izz="6e-06" ixy="2e-06" iyz="0.0" ixz="-0.0"/>
    </inertial>
    <visual>
      <origin xyz="-0.076334 -0.16704 -0.038784" rpy="0 0 0"/>
      <geometry>
        <mesh filename="package://car_copy_2_description/meshes/wheel_small_com_big_v1__9__1.stl" scale="0.001 0.001 0.001"/>
      </geometry>
      <material name="silver"/>
    </visual>
    <collision>
      <origin xyz="-0.076334 -0.16704 -0.038784" rpy="0 0 0"/>
      <geometry>
        <mesh filename="package://car_copy_2_description/meshes/wheel_small_com_big_v1__9__1.stl" scale="0.001 0.001 0.001"/>
      </geometry>
    </collision>
  </link>
  <link name="wheel_small_com_big_v1__10__1">
    <inertial>
      <origin xyz="1.0783117992269053e-07 3.899402070406399e-07 -1.6843569693864024e-07" rpy="0 0 0"/>
      <mass value="0.05173563165158379"/>
      <inertia ixx="5e-06" iyy="4e-06" izz="5e-06" ixy="2e-06" iyz="2e-06" ixz="-1e-06"/>
    </inertial>
    <visual>
      <origin xyz="-0.054135 -0.16704 -0.029602" rpy="0 0 0"/>
      <geometry>
        <mesh filename="package://car_copy_2_description/meshes/wheel_small_com_big_v1__10__1.stl" scale="0.001 0.001 0.001"/>
      </geometry>
      <material name="silver"/>
    </visual>
    <collision>
      <origin xyz="-0.054135 -0.16704 -0.029602" rpy="0 0 0"/>
      <geometry>
        <mesh filename="package://car_copy_2_description/meshes/wheel_small_com_big_v1__10__1.stl" scale="0.001 0.001 0.001"/>
      </geometry>
    </collision>
  </link>
  <link name="wheel_small_com_big_v1__11__1">
    <inertial>
      <origin xyz="-1.0088932335394762e-08 -3.3410351013563044e-08 1.2525174600003935e-07" rpy="0 0 0"/>
      <mass value="0.05173563165158379"/>
      <inertia ixx="6e-06" iyy="4e-06" izz="4e-06" ixy="-0.0" iyz="2e-06" ixz="0.0"/>
    </inertial>
    <visual>
      <origin xyz="-0.044931 -0.16701 -0.007381" rpy="0 0 0"/>
      <geometry>
        <mesh filename="package://car_copy_2_description/meshes/wheel_small_com_big_v1__11__1.stl" scale="0.001 0.001 0.001"/>
      </geometry>
      <material name="silver"/>
    </visual>
    <collision>
      <origin xyz="-0.044931 -0.16701 -0.007381" rpy="0 0 0"/>
      <geometry>
        <mesh filename="package://car_copy_2_description/meshes/wheel_small_com_big_v1__11__1.stl" scale="0.001 0.001 0.001"/>
      </geometry>
    </collision>
  </link>
  <link name="wheel_small_com_big_v1__12__1">
    <inertial>
      <origin xyz="1.8991106845445138e-07 3.8994024945115946e-07 1.2525174589855803e-07" rpy="0 0 0"/>
      <mass value="0.05173563165158379"/>
      <inertia ixx="6e-06" iyy="4e-06" izz="4e-06" ixy="0.0" iyz="-2e-06" ixz="0.0"/>
    </inertial>
    <visual>
      <origin xyz="-0.107707 -0.16704 -0.007381" rpy="0 0 0"/>
      <geometry>
        <mesh filename="package://car_copy_2_description/meshes/wheel_small_com_big_v1__12__1.stl" scale="0.001 0.001 0.001"/>
      </geometry>
      <material name="silver"/>
    </visual>
    <collision>
      <origin xyz="-0.107707 -0.16704 -0.007381" rpy="0 0 0"/>
      <geometry>
        <mesh filename="package://car_copy_2_description/meshes/wheel_small_com_big_v1__12__1.stl" scale="0.001 0.001 0.001"/>
      </geometry>
    </collision>
  </link>
  <link name="wheel_small_com_big_v1__13__1">
    <inertial>
      <origin xyz="1.0783118069290776e-07 -3.3410405525513553e-08 -1.577103363840926e-07" rpy="0 0 0"/>
      <mass value="0.05173563165158379"/>
      <inertia ixx="5e-06" iyy="4e-06" izz="5e-06" ixy="-2e-06" iyz="2e-06" ixz="1e-06"/>
    </inertial>
    <visual>
      <origin xyz="-0.054135 -0.16701 0.014809" rpy="0 0 0"/>
      <geometry>
        <mesh filename="package://car_copy_2_description/meshes/wheel_small_com_big_v1__13__1.stl" scale="0.001 0.001 0.001"/>
      </geometry>
      <material name="silver"/>
    </visual>
    <collision>
      <origin xyz="-0.054135 -0.16701 0.014809" rpy="0 0 0"/>
      <geometry>
        <mesh filename="package://car_copy_2_description/meshes/wheel_small_com_big_v1__13__1.stl" scale="0.001 0.001 0.001"/>
      </geometry>
    </collision>
  </link>
  <link name="wheel_small_com_big_v1__14__1">
    <inertial>
      <origin xyz="3.0158628468168747e-07 -3.3410357730412343e-08 2.3692696789201495e-07" rpy="0 0 0"/>
      <mass value="0.05173563165158379"/>
      <inertia ixx="4e-06" iyy="4e-06" izz="6e-06" ixy="-2e-06" iyz="-0.0" ixz="-0.0"/>
    </inertial>
    <visual>
      <origin xyz="-0.076334 -0.16701 0.023992" rpy="0 0 0"/>
      <geometry>
        <mesh filename="package://car_copy_2_description/meshes/wheel_small_com_big_v1__14__1.stl" scale="0.001 0.001 0.001"/>
      </geometry>
      <material name="silver"/>
    </visual>
    <collision>
      <origin xyz="-0.076334 -0.16701 0.023992" rpy="0 0 0"/>
      <geometry>
        <mesh filename="package://car_copy_2_description/meshes/wheel_small_com_big_v1__14__1.stl" scale="0.001 0.001 0.001"/>
      </geometry>
    </collision>
  </link>
  <link name="wheel_small_com_big_v1__15__1">
    <inertial>
      <origin xyz="7.199078351505239e-08 3.8994029774586103e-07 -1.5771034077467772e-07" rpy="0 0 0"/>
      <mass value="0.05173563165158379"/>
      <inertia ixx="5e-06" iyy="4e-06" izz="5e-06" ixy="-2e-06" iyz="-2e-06" ixz="-1e-06"/>
    </inertial>
    <visual>
      <origin xyz="-0.098503 -0.16704 0.014809" rpy="0 0 0"/>
      <geometry>
        <mesh filename="package://car_copy_2_description/meshes/wheel_small_com_big_v1__15__1.stl" scale="0.001 0.001 0.001"/>
      </geometry>
      <material name="silver"/>
    </visual>
    <collision>
      <origin xyz="-0.098503 -0.16704 0.014809" rpy="0 0 0"/>
      <geometry>
        <mesh filename="package://car_copy_2_description/meshes/wheel_small_com_big_v1__15__1.stl" scale="0.001 0.001 0.001"/>
      </geometry>
    </collision>
  </link>
  <link name="macWheel_big_v2__1__1">
    <inertial>
      <origin xyz="8.991099478827813e-08 0.021493845754267993 3.3693200623009095e-07" rpy="0 0 0"/>
      <mass value="0.4755858352821359"/>
      <inertia ixx="0.000195" iyy="0.000201" izz="0.000195" ixy="0.0" iyz="-0.0" ixz="-0.0"/>
    </inertial>
    <visual>
      <origin xyz="0.133681 -0.143754 -0.007396" rpy="0 0 0"/>
      <geometry>
        <mesh filename="package://car_copy_2_description/meshes/macWheel_big_v2__1__1.stl" scale="0.001 0.001 0.001"/>
      </geometry>
      <material name="silver"/>
    </visual>
    <collision>
      <origin xyz="0.133681 -0.143754 -0.007396" rpy="0 0 0"/>
      <geometry>
        <mesh filename="package://car_copy_2_description/meshes/macWheel_big_v2__1__1.stl" scale="0.001 0.001 0.001"/>
      </geometry>
    </collision>
  </link>
  <link name="wheel_small_com_big_v1__16__1">
    <inertial>
      <origin xyz="-4.1545169618406597e-07 -3.6592087215847613e-07 3.190067861501278e-07" rpy="0 0 0"/>
      <mass value="0.05173563165158379"/>
      <inertia ixx="5e-06" iyy="4e-06" izz="5e-06" ixy="-2e-06" iyz="2e-06" ixz="1e-06"/>
    </inertial>
    <visual>
      <origin xyz="0.111475 -0.165233 -0.02958" rpy="0 0 0"/>
      <geometry>
        <mesh filename="package://car_copy_2_description/meshes/wheel_small_com_big_v1__16__1.stl" scale="0.001 0.001 0.001"/>
      </geometry>
      <material name="silver"/>
    </visual>
    <collision>
      <origin xyz="0.111475 -0.165233 -0.02958" rpy="0 0 0"/>
      <geometry>
        <mesh filename="package://car_copy_2_description/meshes/wheel_small_com_big_v1__16__1.stl" scale="0.001 0.001 0.001"/>
      </geometry>
    </collision>
  </link>
  <link name="wheel_small_com_big_v1__17__1">
    <inertial>
      <origin xyz="3.0158628472332083e-07 -3.659208228923294e-07 4.369269677867438e-07" rpy="0 0 0"/>
      <mass value="0.05173563165158379"/>
      <inertia ixx="4e-06" iyy="4e-06" izz="6e-06" ixy="-2e-06" iyz="-0.0" ixz="-0.0"/>
    </inertial>
    <visual>
      <origin xyz="0.133666 -0.165233 -0.038784" rpy="0 0 0"/>
      <geometry>
        <mesh filename="package://car_copy_2_description/meshes/wheel_small_com_big_v1__17__1.stl" scale="0.001 0.001 0.001"/>
      </geometry>
      <material name="silver"/>
    </visual>
    <collision>
      <origin xyz="0.133666 -0.165233 -0.038784" rpy="0 0 0"/>
      <geometry>
        <mesh filename="package://car_copy_2_description/meshes/wheel_small_com_big_v1__17__1.stl" scale="0.001 0.001 0.001"/>
      </geometry>
    </collision>
  </link>
  <link name="wheel_small_com_big_v1__18__1">
    <inertial>
      <origin xyz="1.8991089988096288e-07 5.742978409495336e-08 -4.5139764158919765e-07" rpy="0 0 0"/>
      <mass value="0.05173563165158379"/>
      <inertia ixx="6e-06" iyy="4e-06" izz="4e-06" ixy="-0.0" iyz="2e-06" ixz="0.0"/>
    </inertial>
    <visual>
      <origin xyz="0.102293 -0.165263 -0.007412" rpy="0 0 0"/>
      <geometry>
        <mesh filename="package://car_copy_2_description/meshes/wheel_small_com_big_v1__18__1.stl" scale="0.001 0.001 0.001"/>
      </geometry>
      <material name="silver"/>
    </visual>
    <collision>
      <origin xyz="0.102293 -0.165263 -0.007412" rpy="0 0 0"/>
      <geometry>
        <mesh filename="package://car_copy_2_description/meshes/wheel_small_com_big_v1__18__1.stl" scale="0.001 0.001 0.001"/>
      </geometry>
    </collision>
  </link>
  <link name="wheel_small_com_big_v1__19__1">
    <inertial>
      <origin xyz="-4.1545169618406597e-07 5.742974157341152e-08 3.548471804726283e-07" rpy="0 0 0"/>
      <mass value="0.05173563165158379"/>
      <inertia ixx="5e-06" iyy="4e-06" izz="5e-06" ixy="2e-06" iyz="2e-06" ixz="-1e-06"/>
    </inertial>
    <visual>
      <origin xyz="0.111475 -0.165263 0.014788" rpy="0 0 0"/>
      <geometry>
        <mesh filename="package://car_copy_2_description/meshes/wheel_small_com_big_v1__19__1.stl" scale="0.001 0.001 0.001"/>
      </geometry>
      <material name="silver"/>
    </visual>
    <collision>
      <origin xyz="0.111475 -0.165263 0.014788" rpy="0 0 0"/>
      <geometry>
        <mesh filename="package://car_copy_2_description/meshes/wheel_small_com_big_v1__19__1.stl" scale="0.001 0.001 0.001"/>
      </geometry>
    </collision>
  </link>
  <link name="wheel_small_com_big_v1__20__1">
    <inertial>
      <origin xyz="-4.047263396644851e-07 5.742983336110008e-08 3.190067824274112e-07" rpy="0 0 0"/>
      <mass value="0.05173563165158379"/>
      <inertia ixx="5e-06" iyy="4e-06" izz="5e-06" ixy="-2e-06" iyz="-2e-06" ixz="-1e-06"/>
    </inertial>
    <visual>
      <origin xyz="0.155886 -0.165263 -0.02958" rpy="0 0 0"/>
      <geometry>
        <mesh filename="package://car_copy_2_description/meshes/wheel_small_com_big_v1__20__1.stl" scale="0.001 0.001 0.001"/>
      </geometry>
      <material name="silver"/>
    </visual>
    <collision>
      <origin xyz="0.155886 -0.165263 -0.02958" rpy="0 0 0"/>
      <geometry>
        <mesh filename="package://car_copy_2_description/meshes/wheel_small_com_big_v1__20__1.stl" scale="0.001 0.001 0.001"/>
      </geometry>
    </collision>
  </link>
  <link name="wheel_small_com_big_v1__21__1">
    <inertial>
      <origin xyz="-1.0089100943577733e-08 -3.6592081614772454e-07 -4.5139764168720953e-07" rpy="0 0 0"/>
      <mass value="0.05173563165158379"/>
      <inertia ixx="6e-06" iyy="4e-06" izz="4e-06" ixy="0.0" iyz="-2e-06" ixz="0.0"/>
    </inertial>
    <visual>
      <origin xyz="0.165069 -0.165233 -0.007412" rpy="0 0 0"/>
      <geometry>
        <mesh filename="package://car_copy_2_description/meshes/wheel_small_com_big_v1__21__1.stl" scale="0.001 0.001 0.001"/>
      </geometry>
      <material name="silver"/>
    </visual>
    <collision>
      <origin xyz="0.165069 -0.165233 -0.007412" rpy="0 0 0"/>
      <geometry>
        <mesh filename="package://car_copy_2_description/meshes/wheel_small_com_big_v1__21__1.stl" scale="0.001 0.001 0.001"/>
      </geometry>
    </collision>
  </link>
  <link name="wheel_small_com_big_v1__22__1">
    <inertial>
      <origin xyz="3.015862846678097e-07 5.7429790589758056e-08 2.3692696787119827e-07" rpy="0 0 0"/>
      <mass value="0.05173563165158379"/>
      <inertia ixx="4e-06" iyy="4e-06" izz="6e-06" ixy="2e-06" iyz="0.0" ixz="-0.0"/>
    </inertial>
    <visual>
      <origin xyz="0.133666 -0.165263 0.023992" rpy="0 0 0"/>
      <geometry>
        <mesh filename="package://car_copy_2_description/meshes/wheel_small_com_big_v1__22__1.stl" scale="0.001 0.001 0.001"/>
      </geometry>
      <material name="silver"/>
    </visual>
    <collision>
      <origin xyz="0.133666 -0.165263 0.023992" rpy="0 0 0"/>
      <geometry>
        <mesh filename="package://car_copy_2_description/meshes/wheel_small_com_big_v1__22__1.stl" scale="0.001 0.001 0.001"/>
      </geometry>
    </collision>
  </link>
  <link name="wheel_small_com_big_v1__23__1">
    <inertial>
      <origin xyz="3.7429939472866103e-07 -4.1757016064347674e-07 -3.741785504478984e-07" rpy="0 0 0"/>
      <mass value="0.05173563165158379"/>
      <inertia ixx="5e-06" iyy="4e-06" izz="5e-06" ixy="2e-06" iyz="-2e-06" ixz="1e-06"/>
    </inertial>
    <visual>
      <origin xyz="0.154118 -0.166287 0.014509" rpy="0 0 0"/>
      <geometry>
        <mesh filename="package://car_copy_2_description/meshes/wheel_small_com_big_v1__23__1.stl" scale="0.001 0.001 0.001"/>
      </geometry>
      <material name="silver"/>
    </visual>
    <collision>
      <origin xyz="0.154118 -0.166287 0.014509" rpy="0 0 0"/>
      <geometry>
        <mesh filename="package://car_copy_2_description/meshes/wheel_small_com_big_v1__23__1.stl" scale="0.001 0.001 0.001"/>
      </geometry>
    </collision>
  </link>
  <link name="macWheel_big_v2_Mirror__2">
    <inertial>
      <origin xyz="8.991099476052256e-08 -0.02327153675619756 3.3692209818782237e-07" rpy="0 0 0"/>
      <mass value="0.4755858352821358"/>
      <inertia ixx="0.000195" iyy="0.000201" izz="0.000195" ixy="0.0" iyz="0.0" ixz="0.0"/>
    </inertial>
    <visual>
      <origin xyz="0.133681 0.091246 -0.007396" rpy="0 0 0"/>
      <geometry>
        <mesh filename="package://car_copy_2_description/meshes/macWheel_big_v2_Mirror__2.stl" scale="0.001 0.001 0.001"/>
      </geometry>
      <material name="silver"/>
    </visual>
    <collision>
      <origin xyz="0.133681 0.091246 -0.007396" rpy="0 0 0"/>
      <geometry>
        <mesh filename="package://car_copy_2_description/meshes/macWheel_big_v2_Mirror__2.stl" scale="0.001 0.001 0.001"/>
      </geometry>
    </collision>
  </link>
  <link name="wheel_small_com_big_v1__31__1">
    <inertial>
      <origin xyz="-1.21764323568474e-07 2.5156871683029713e-07 4.3692696793246055e-07" rpy="0 0 0"/>
      <mass value="0.05173563165158379"/>
      <inertia ixx="4e-06" iyy="4e-06" izz="6e-06" ixy="2e-06" iyz="0.0" ixz="-0.0"/>
    </inertial>
    <visual>
      <origin xyz="0.133696 0.114533 -0.038784" rpy="0 0 0"/>
      <geometry>
        <mesh filename="package://car_copy_2_description/meshes/wheel_small_com_big_v1__31__1.stl" scale="0.001 0.001 0.001"/>
      </geometry>
      <material name="silver"/>
    </visual>
    <collision>
      <origin xyz="0.133696 0.114533 -0.038784" rpy="0 0 0"/>
      <geometry>
        <mesh filename="package://car_copy_2_description/meshes/wheel_small_com_big_v1__31__1.stl" scale="0.001 0.001 0.001"/>
      </geometry>
    </collision>
  </link>
  <link name="wheel_small_com_big_v1__30__1">
    <inertial>
      <origin xyz="-4.047263403583745e-07 2.5156866959030744e-07 3.1900678305885055e-07" rpy="0 0 0"/>
      <mass value="0.05173563165158379"/>
      <inertia ixx="5e-06" iyy="4e-06" izz="5e-06" ixy="2e-06" iyz="2e-06" ixz="-1e-06"/>
    </inertial>
    <visual>
      <origin xyz="0.155886 0.114533 -0.02958" rpy="0 0 0"/>
      <geometry>
        <mesh filename="package://car_copy_2_description/meshes/wheel_small_com_big_v1__30__1.stl" scale="0.001 0.001 0.001"/>
      </geometry>
      <material name="silver"/>
    </visual>
    <collision>
      <origin xyz="0.155886 0.114533 -0.02958" rpy="0 0 0"/>
      <geometry>
        <mesh filename="package://car_copy_2_description/meshes/wheel_small_com_big_v1__30__1.stl" scale="0.001 0.001 0.001"/>
      </geometry>
    </collision>
  </link>
  <link name="wheel_small_com_big_v1__29__1">
    <inertial>
      <origin xyz="-4.154516961563104e-07 -3.25080626556451e-07 3.190067862784973e-07" rpy="0 0 0"/>
      <mass value="0.05173563165158379"/>
      <inertia ixx="5e-06" iyy="4e-06" izz="5e-06" ixy="2e-06" iyz="-2e-06" ixz="1e-06"/>
    </inertial>
    <visual>
      <origin xyz="0.111475 0.114502 -0.02958" rpy="0 0 0"/>
      <geometry>
        <mesh filename="package://car_copy_2_description/meshes/wheel_small_com_big_v1__29__1.stl" scale="0.001 0.001 0.001"/>
      </geometry>
      <material name="silver"/>
    </visual>
    <collision>
      <origin xyz="0.111475 0.114502 -0.02958" rpy="0 0 0"/>
      <geometry>
        <mesh filename="package://car_copy_2_description/meshes/wheel_small_com_big_v1__29__1.stl" scale="0.001 0.001 0.001"/>
      </geometry>
    </collision>
  </link>
  <link name="wheel_small_com_big_v1__28__1">
    <inertial>
      <origin xyz="1.899110684266958e-07 -3.2508068155412406e-07 1.2525174605641787e-07" rpy="0 0 0"/>
      <mass value="0.05173563165158379"/>
      <inertia ixx="6e-06" iyy="4e-06" izz="4e-06" ixy="0.0" iyz="-2e-06" ixz="0.0"/>
    </inertial>
    <visual>
      <origin xyz="0.102293 0.114502 -0.007381" rpy="0 0 0"/>
      <geometry>
        <mesh filename="package://car_copy_2_description/meshes/wheel_small_com_big_v1__28__1.stl" scale="0.001 0.001 0.001"/>
      </geometry>
      <material name="silver"/>
    </visual>
    <collision>
      <origin xyz="0.102293 0.114502 -0.007381" rpy="0 0 0"/>
      <geometry>
        <mesh filename="package://car_copy_2_description/meshes/wheel_small_com_big_v1__28__1.stl" scale="0.001 0.001 0.001"/>
      </geometry>
    </collision>
  </link>
  <link name="wheel_small_com_big_v1__27__1">
    <inertial>
      <origin xyz="-1.008893213416684e-08 2.515687181348092e-07 1.2525174613448042e-07" rpy="0 0 0"/>
      <mass value="0.05173563165158379"/>
      <inertia ixx="6e-06" iyy="4e-06" izz="4e-06" ixy="-0.0" iyz="2e-06" ixz="0.0"/>
    </inertial>
    <visual>
      <origin xyz="0.165069 0.114533 -0.007381" rpy="0 0 0"/>
      <geometry>
        <mesh filename="package://car_copy_2_description/meshes/wheel_small_com_big_v1__27__1.stl" scale="0.001 0.001 0.001"/>
      </geometry>
      <material name="silver"/>
    </visual>
    <collision>
      <origin xyz="0.165069 0.114533 -0.007381" rpy="0 0 0"/>
      <geometry>
        <mesh filename="package://car_copy_2_description/meshes/wheel_small_com_big_v1__27__1.stl" scale="0.001 0.001 0.001"/>
      </geometry>
    </collision>
  </link>
  <link name="wheel_small_com_big_v1__26__1">
    <inertial>
      <origin xyz="7.199078354280797e-08 -3.2508063332881143e-07 -1.577103405734498e-07" rpy="0 0 0"/>
      <mass value="0.05173563165158379"/>
      <inertia ixx="5e-06" iyy="4e-06" izz="5e-06" ixy="-2e-06" iyz="-2e-06" ixz="-1e-06"/>
    </inertial>
    <visual>
      <origin xyz="0.111497 0.114502 0.014809" rpy="0 0 0"/>
      <geometry>
        <mesh filename="package://car_copy_2_description/meshes/wheel_small_com_big_v1__26__1.stl" scale="0.001 0.001 0.001"/>
      </geometry>
      <material name="silver"/>
    </visual>
    <collision>
      <origin xyz="0.111497 0.114502 0.014809" rpy="0 0 0"/>
      <geometry>
        <mesh filename="package://car_copy_2_description/meshes/wheel_small_com_big_v1__26__1.stl" scale="0.001 0.001 0.001"/>
      </geometry>
    </collision>
  </link>
  <link name="wheel_small_com_big_v1__25__1">
    <inertial>
      <origin xyz="-4.0472633897059573e-07 -3.250807301402592e-07 3.5484718438616447e-07" rpy="0 0 0"/>
      <mass value="0.05173563165158379"/>
      <inertia ixx="5e-06" iyy="4e-06" izz="5e-06" ixy="-2e-06" iyz="2e-06" ixz="1e-06"/>
    </inertial>
    <visual>
      <origin xyz="0.155886 0.114502 0.014788" rpy="0 0 0"/>
      <geometry>
        <mesh filename="package://car_copy_2_description/meshes/wheel_small_com_big_v1__25__1.stl" scale="0.001 0.001 0.001"/>
      </geometry>
      <material name="silver"/>
    </visual>
    <collision>
      <origin xyz="0.155886 0.114502 0.014788" rpy="0 0 0"/>
      <geometry>
        <mesh filename="package://car_copy_2_description/meshes/wheel_small_com_big_v1__25__1.stl" scale="0.001 0.001 0.001"/>
      </geometry>
    </collision>
  </link>
  <link name="wheel_small_com_big_v1__24__1">
    <inertial>
      <origin xyz="-1.2176431712918045e-07 -3.250806760723979e-07 2.3692696809324287e-07" rpy="0 0 0"/>
      <mass value="0.05173563165158379"/>
      <inertia ixx="4e-06" iyy="4e-06" izz="6e-06" ixy="-2e-06" iyz="0.0" ixz="0.0"/>
    </inertial>
    <visual>
      <origin xyz="0.133696 0.114502 0.023992" rpy="0 0 0"/>
      <geometry>
        <mesh filename="package://car_copy_2_description/meshes/wheel_small_com_big_v1__24__1.stl" scale="0.001 0.001 0.001"/>
      </geometry>
      <material name="silver"/>
    </visual>
    <collision>
      <origin xyz="0.133696 0.114502 0.023992" rpy="0 0 0"/>
      <geometry>
        <mesh filename="package://car_copy_2_description/meshes/wheel_small_com_big_v1__24__1.stl" scale="0.001 0.001 0.001"/>
      </geometry>
    </collision>
  </link>
  <joint name="Rigid 3" type="fixed">
    <origin xyz="-0.093681 0.026254 0.149896" rpy="0 0 0"/>
    <parent link="base_link"/>
    <child link="lidar_v1_1"/>
  </joint>
  <joint name="Revolute 58" type="continuous">
    <origin xyz="0.076319 -0.091246 0.007396" rpy="0 0 0"/>
    <parent link="base_link"/>
    <child link="macWheel_big_v2_1"/>
    <axis xyz="0.0 -1.0 0.0"/>
  </joint>
  <joint name="Revolute 59" type="continuous">
    <origin xyz="0.022206 -0.021509 0.022184" rpy="0 0 0"/>
    <parent link="macWheel_big_v2_1"/>
    <child link="wheel_small_com_big_v1_1"/>
    <axis xyz="0.5 0.707107 -0.5"/>
  </joint>
  <joint name="Revolute 60" type="continuous">
    <origin xyz="1.5e-05 -0.021509 0.031388" rpy="0 0 0"/>
    <parent link="macWheel_big_v2_1"/>
    <child link="wheel_small_com_big_v1__1__1"/>
    <axis xyz="0.707107 0.707107 -0.0"/>
  </joint>
  <joint name="Revolute 61" type="continuous">
    <origin xyz="-0.022205 -0.021479 0.022184" rpy="0 0 0"/>
    <parent link="macWheel_big_v2_1"/>
    <child link="wheel_small_com_big_v1__2__1"/>
    <axis xyz="-0.5 -0.707107 -0.5"/>
  </joint>
  <joint name="Revolute 62" type="continuous">
    <origin xyz="-0.031388 -0.021479 -1.5e-05" rpy="0 0 0"/>
    <parent link="macWheel_big_v2_1"/>
    <child link="wheel_small_com_big_v1__3__1"/>
    <axis xyz="-0.0 -0.707107 -0.707107"/>
  </joint>
  <joint name="Revolute 63" type="continuous">
    <origin xyz="0.031388 -0.021479 1.6e-05" rpy="0 0 0"/>
    <parent link="macWheel_big_v2_1"/>
    <child link="wheel_small_com_big_v1__4__1"/>
    <axis xyz="-0.0 -0.707107 0.707107"/>
  </joint>
  <joint name="Revolute 64" type="continuous">
    <origin xyz="0.022206 -0.021479 -0.022184" rpy="0 0 0"/>
    <parent link="macWheel_big_v2_1"/>
    <child link="wheel_small_com_big_v1__5__1"/>
    <axis xyz="0.5 -0.707107 0.5"/>
  </joint>
  <joint name="Revolute 65" type="continuous">
    <origin xyz="1.5e-05 -0.021479 -0.031388" rpy="0 0 0"/>
    <parent link="macWheel_big_v2_1"/>
    <child link="wheel_small_com_big_v1__7__1"/>
    <axis xyz="0.707107 -0.707107 0.0"/>
  </joint>
  <joint name="Revolute 66" type="continuous">
    <origin xyz="-0.022184 -0.021479 -0.022205" rpy="0 0 0"/>
    <parent link="macWheel_big_v2_1"/>
    <child link="wheel_small_com_big_v1__6__1"/>
    <axis xyz="0.5 -0.707107 -0.5"/>
  </joint>
  <joint name="Revolute 67" type="continuous">
    <origin xyz="0.076319 0.143754 0.007396" rpy="0 0 0"/>
    <parent link="base_link"/>
    <child link="macWheel_big_v2_Mirror__1"/>
    <axis xyz="0.0 1.0 -0.0"/>
  </joint>
  <joint name="Revolute 68" type="continuous">
    <origin xyz="0.022184 0.023256 0.022206" rpy="0 0 0"/>
    <parent link="macWheel_big_v2_Mirror__1"/>
    <child link="wheel_small_com_big_v1__8__1"/>
    <axis xyz="-0.5 0.707107 0.5"/>
  </joint>
  <joint name="Revolute 69" type="continuous">
    <origin xyz="1.5e-05 0.023286 0.031388" rpy="0 0 0"/>
    <parent link="macWheel_big_v2_Mirror__1"/>
    <child link="wheel_small_com_big_v1__9__1"/>
    <axis xyz="-0.707107 0.707107 -0.0"/>
  </joint>
  <joint name="Revolute 70" type="continuous">
    <origin xyz="-0.022184 0.023286 0.022206" rpy="0 0 0"/>
    <parent link="macWheel_big_v2_Mirror__1"/>
    <child link="wheel_small_com_big_v1__10__1"/>
    <axis xyz="-0.5 0.707107 -0.5"/>
  </joint>
  <joint name="Revolute 71" type="continuous">
    <origin xyz="-0.031388 0.023256 -1.5e-05" rpy="0 0 0"/>
    <parent link="macWheel_big_v2_Mirror__1"/>
    <child link="wheel_small_com_big_v1__11__1"/>
    <axis xyz="-0.0 0.707107 -0.707107"/>
  </joint>
  <joint name="Revolute 72" type="continuous">
    <origin xyz="0.031388 0.023286 -1.5e-05" rpy="0 0 0"/>
    <parent link="macWheel_big_v2_Mirror__1"/>
    <child link="wheel_small_com_big_v1__12__1"/>
    <axis xyz="-0.0 -0.707107 -0.707107"/>
  </joint>
  <joint name="Revolute 73" type="continuous">
    <origin xyz="-0.022184 0.023256 -0.022205" rpy="0 0 0"/>
    <parent link="macWheel_big_v2_Mirror__1"/>
    <child link="wheel_small_com_big_v1__13__1"/>
    <axis xyz="0.5 0.707107 -0.5"/>
  </joint>
  <joint name="Revolute 74" type="continuous">
    <origin xyz="1.5e-05 0.023256 -0.031388" rpy="0 0 0"/>
    <parent link="macWheel_big_v2_Mirror__1"/>
    <child link="wheel_small_com_big_v1__14__1"/>
    <axis xyz="0.707107 0.707107 -0.0"/>
  </joint>
  <joint name="Revolute 75" type="continuous">
    <origin xyz="0.022184 0.023286 -0.022205" rpy="0 0 0"/>
    <parent link="macWheel_big_v2_Mirror__1"/>
    <child link="wheel_small_com_big_v1__15__1"/>
    <axis xyz="-0.5 -0.707107 -0.5"/>
  </joint>
  <joint name="Revolute 76" type="continuous">
    <origin xyz="-0.133681 0.143754 0.007396" rpy="0 0 0"/>
    <parent link="base_link"/>
    <child link="macWheel_big_v2__1__1"/>
    <axis xyz="0.0 1.0 -0.0"/>
  </joint>
  <joint name="Revolute 77" type="continuous">
    <origin xyz="0.022206 0.021479 0.022184" rpy="0 0 0"/>
    <parent link="macWheel_big_v2__1__1"/>
    <child link="wheel_small_com_big_v1__16__1"/>
    <axis xyz="0.5 0.707107 -0.5"/>
  </joint>
  <joint name="Revolute 78" type="continuous">
    <origin xyz="1.5e-05 0.021479 0.031388" rpy="0 0 0"/>
    <parent link="macWheel_big_v2__1__1"/>
    <child link="wheel_small_com_big_v1__17__1"/>
    <axis xyz="0.707107 0.707107 -0.0"/>
  </joint>
  <joint name="Revolute 79" type="continuous">
    <origin xyz="0.031388 0.021509 1.6e-05" rpy="0 0 0"/>
    <parent link="macWheel_big_v2__1__1"/>
    <child link="wheel_small_com_big_v1__18__1"/>
    <axis xyz="-0.0 -0.707107 0.707107"/>
  </joint>
  <joint name="Revolute 80" type="continuous">
    <origin xyz="0.022206 0.021509 -0.022184" rpy="0 0 0"/>
    <parent link="macWheel_big_v2__1__1"/>
    <child link="wheel_small_com_big_v1__19__1"/>
    <axis xyz="0.5 -0.707107 0.5"/>
  </joint>
  <joint name="Revolute 81" type="continuous">
    <origin xyz="-0.022205 0.021509 0.022184" rpy="0 0 0"/>
    <parent link="macWheel_big_v2__1__1"/>
    <child link="wheel_small_com_big_v1__20__1"/>
    <axis xyz="0.5 0.707107 0.5"/>
  </joint>
  <joint name="Revolute 82" type="continuous">
    <origin xyz="-0.031388 0.021479 1.6e-05" rpy="0 0 0"/>
    <parent link="macWheel_big_v2__1__1"/>
    <child link="wheel_small_com_big_v1__21__1"/>
    <axis xyz="-0.0 0.707107 0.707107"/>
  </joint>
  <joint name="Revolute 83" type="continuous">
    <origin xyz="1.5e-05 0.021509 -0.031388" rpy="0 0 0"/>
    <parent link="macWheel_big_v2__1__1"/>
    <child link="wheel_small_com_big_v1__22__1"/>
    <axis xyz="0.707107 -0.707107 0.0"/>
  </joint>
  <joint name="Revolute 84" type="continuous">
    <origin xyz="-0.020437 0.022533 -0.021905" rpy="0 0 0"/>
    <parent link="macWheel_big_v2__1__1"/>
    <child link="wheel_small_com_big_v1__23__1"/>
    <axis xyz="0.5 -0.707107 -0.5"/>
  </joint>
  <joint name="Revolute 85" type="continuous">
    <origin xyz="-0.133681 -0.091246 0.007396" rpy="0 0 0"/>
    <parent link="base_link"/>
    <child link="macWheel_big_v2_Mirror__2"/>
    <axis xyz="0.0 -1.0 0.0"/>
  </joint>
  <joint name="Revolute 86" type="continuous">
    <origin xyz="-1.5e-05 -0.023287 0.031388" rpy="0 0 0"/>
    <parent link="macWheel_big_v2_Mirror__2"/>
    <child link="wheel_small_com_big_v1__31__1"/>
    <axis xyz="0.707107 -0.707107 0.0"/>
  </joint>
  <joint name="Revolute 87" type="continuous">
    <origin xyz="-0.022205 -0.023287 0.022184" rpy="0 0 0"/>
    <parent link="macWheel_big_v2_Mirror__2"/>
    <child link="wheel_small_com_big_v1__30__1"/>
    <axis xyz="-0.5 0.707107 -0.5"/>
  </joint>
  <joint name="Revolute 88" type="continuous">
    <origin xyz="0.022206 -0.023256 0.022184" rpy="0 0 0"/>
    <parent link="macWheel_big_v2_Mirror__2"/>
    <child link="wheel_small_com_big_v1__29__1"/>
    <axis xyz="0.5 -0.707107 -0.5"/>
  </joint>
  <joint name="Revolute 89" type="continuous">
    <origin xyz="0.031388 -0.023256 -1.5e-05" rpy="0 0 0"/>
    <parent link="macWheel_big_v2_Mirror__2"/>
    <child link="wheel_small_com_big_v1__28__1"/>
    <axis xyz="-0.0 -0.707107 -0.707107"/>
  </joint>
  <joint name="Revolute 90" type="continuous">
    <origin xyz="-0.031388 -0.023287 -1.5e-05" rpy="0 0 0"/>
    <parent link="macWheel_big_v2_Mirror__2"/>
    <child link="wheel_small_com_big_v1__27__1"/>
    <axis xyz="-0.0 0.707107 -0.707107"/>
  </joint>
  <joint name="Revolute 91" type="continuous">
    <origin xyz="0.022184 -0.023256 -0.022205" rpy="0 0 0"/>
    <parent link="macWheel_big_v2_Mirror__2"/>
    <child link="wheel_small_com_big_v1__26__1"/>
    <axis xyz="-0.5 -0.707107 -0.5"/>
  </joint>
  <joint name="Revolute 92" type="continuous">
    <origin xyz="-0.022205 -0.023256 -0.022184" rpy="0 0 0"/>
    <parent link="macWheel_big_v2_Mirror__2"/>
    <child link="wheel_small_com_big_v1__25__1"/>
    <axis xyz="-0.5 -0.707107 0.5"/>
  </joint>
  <joint name="Revolute 93" type="continuous">
    <origin xyz="-1.5e-05 -0.023256 -0.031388" rpy="0 0 0"/>
    <parent link="macWheel_big_v2_Mirror__2"/>
    <child link="wheel_small_com_big_v1__24__1"/>
    <axis xyz="-0.707107 -0.707107 0.0"/>
  </joint>
</robot>
